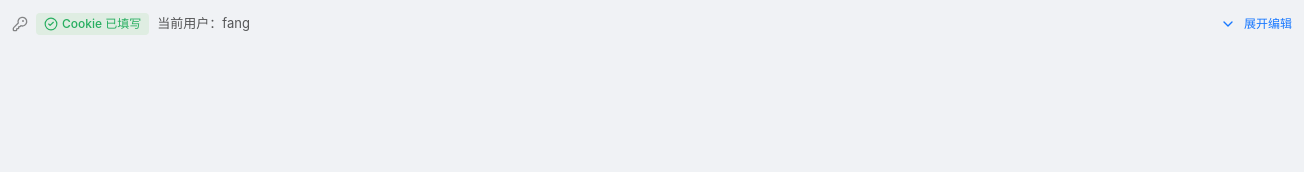
Test: CookiePanel › 切换展开/收起
Expected: the field with placeholder "PRE-GW-SESSION" is not shown
Click the button "展开编辑". click: (1256, 24)
box: [1220,12,1292,36]
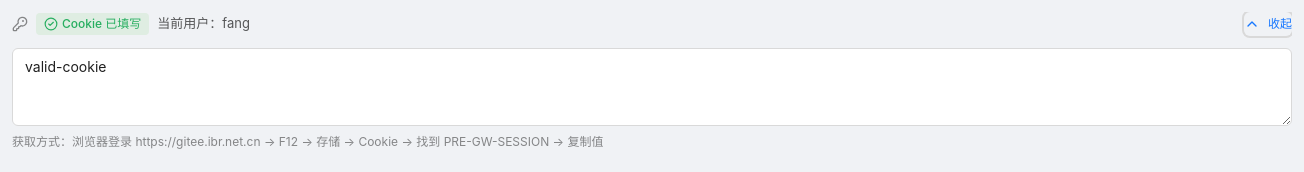
Result: the text box with placeholder "请粘贴 Gitee 的 PRE-GW-SESSION Cookie 值" is shown at [12,48,1292,126]
